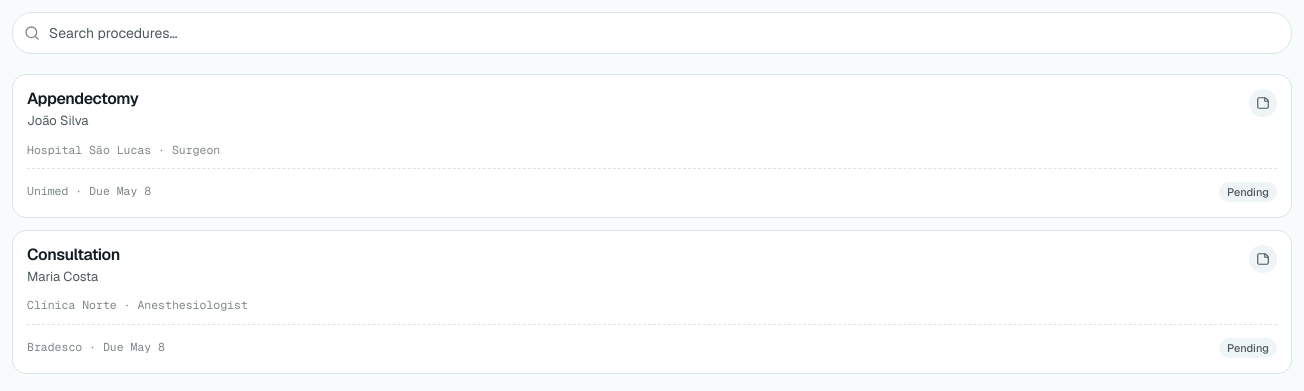
Scenario: ProcedureList search › shows no-results message when nothing matches
This screenshot has width=1304, height=391.
Type "zzznomatch" into the search field with placeholder "Search procedures…" at (652, 33), box [12,12,1292,54]
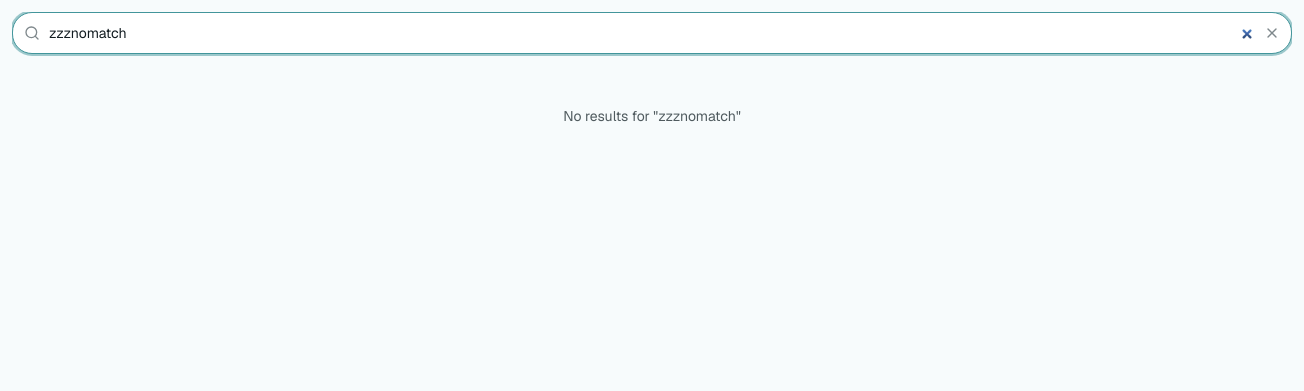
Check: the text "No results for \"zzznomatch\"" is shown, box [563,107,741,125]
